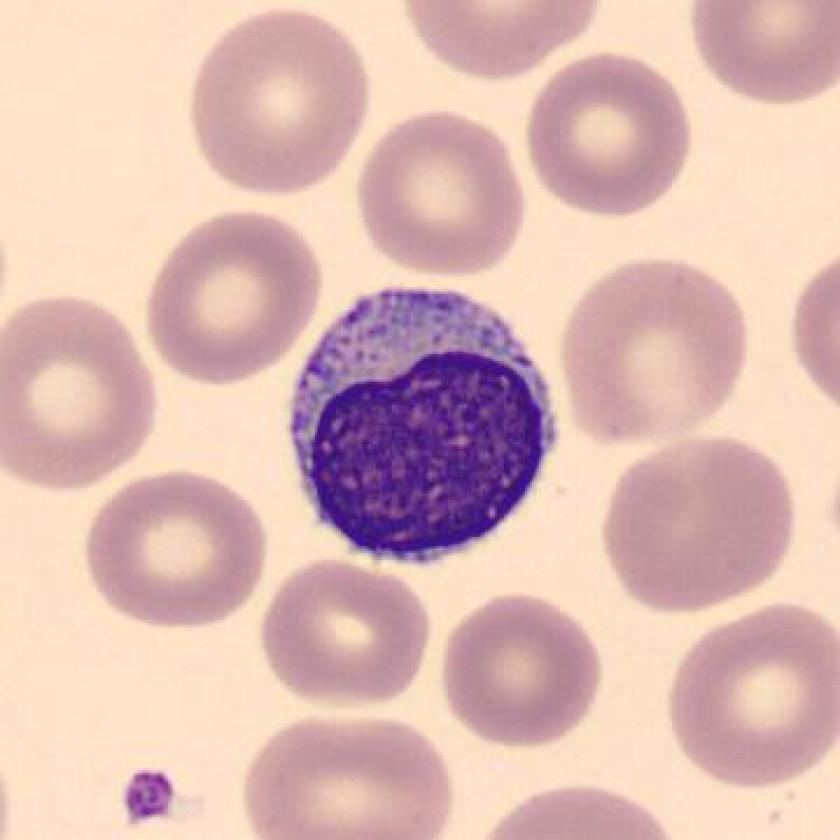lymphocyte: (274, 274, 573, 580)
